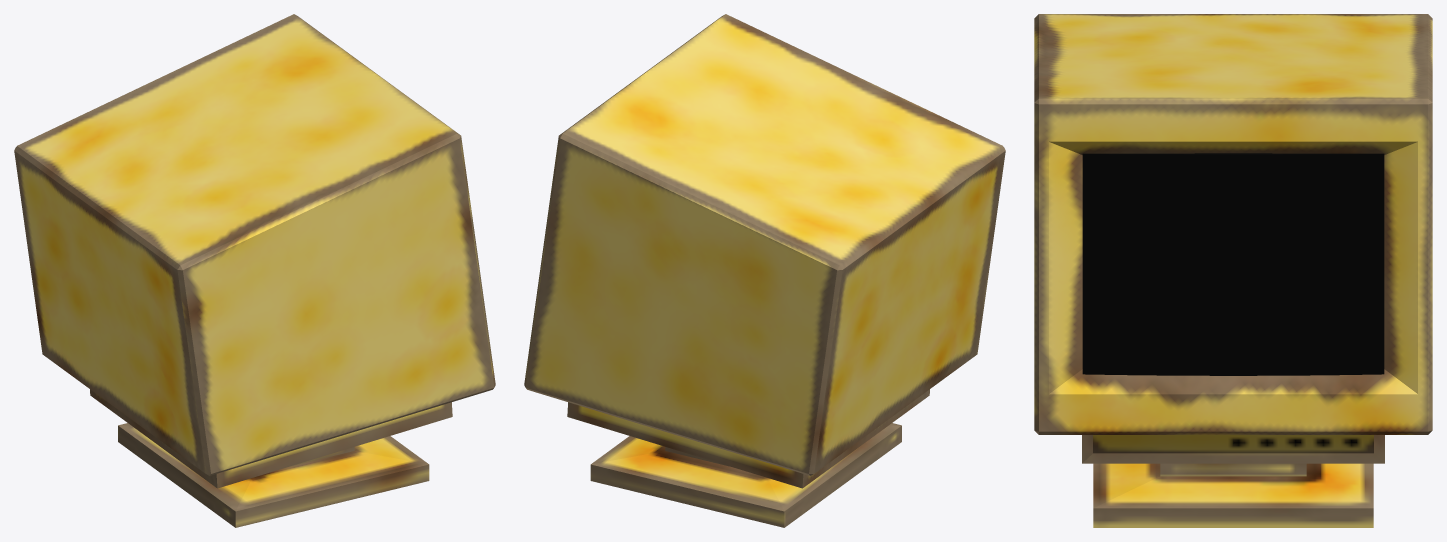
File: arvuti.glb
3 renders of one model, left to right at view 1: azimuth 30°, elevation 25°; view 2: azimuth 150°, elevation 25°; view 3: azimuth 270°, elevation 25°, orthographic. The views are drawn at different scales.
Visible parts, largest first — view 1: Monitor; view 2: Monitor; view 3: Monitor.
Boxes of the visible parts, left/top/right/bottom form: Monitor: left=14, top=14, right=495, bottom=527; Monitor: left=524, top=14, right=1005, bottom=527; Monitor: left=1034, top=14, right=1432, bottom=527.
Bounding box in the file's own units: 0.3847 × 0.419 × 0.35.
Materials: 1 (1 with a texture image).
